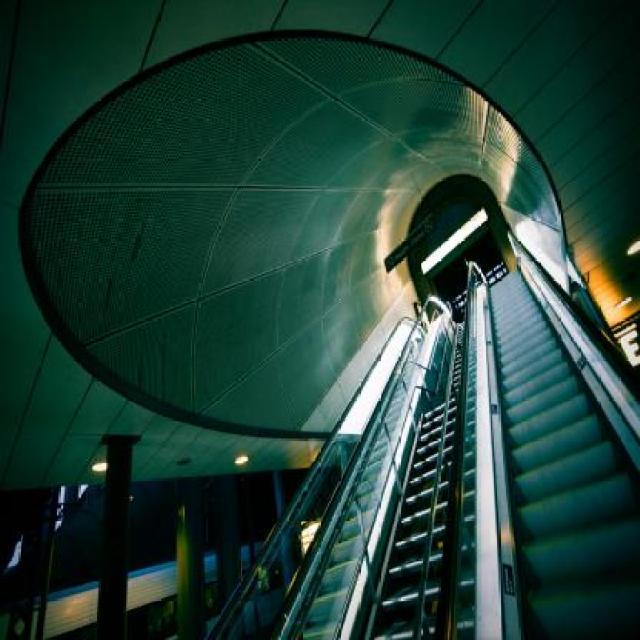stair: (486, 263, 640, 640), (295, 332, 423, 640)
